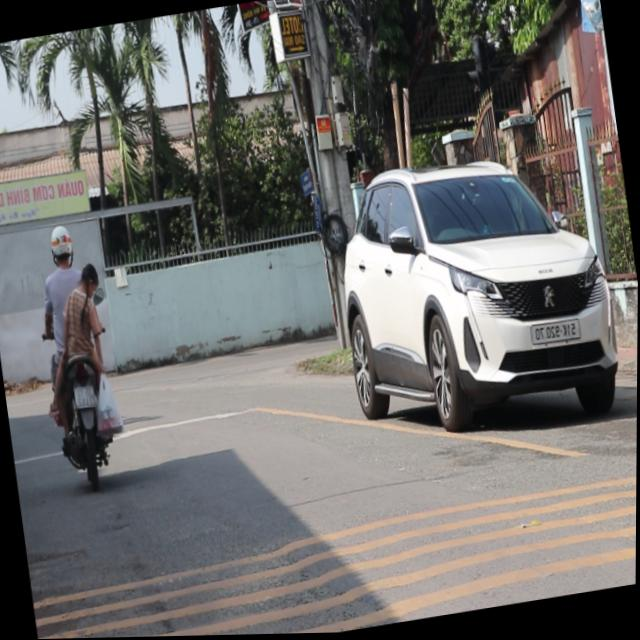helmet: (48, 222, 76, 266)
licenseplate: (24, 215, 134, 489)
motorcyclist: (77, 259, 103, 297)
nohelmet: (75, 385, 96, 408)
